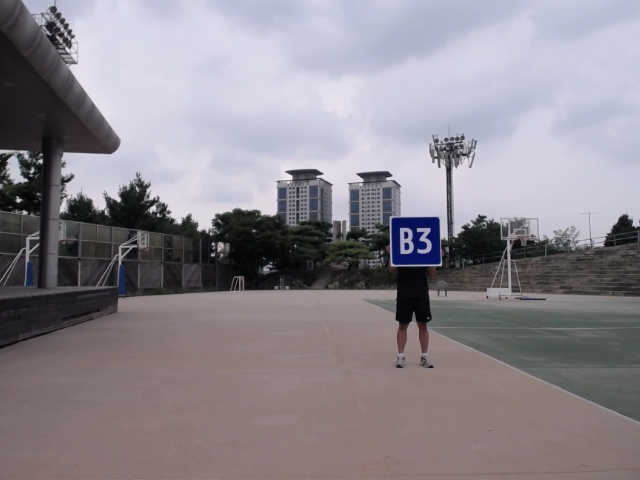delivery_b3: (391, 214, 442, 267)
